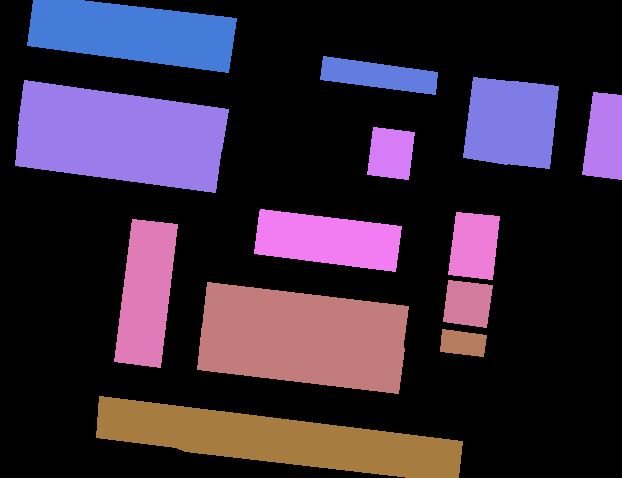parkingspot: (96, 396, 462, 477), (27, 0, 236, 72), (18, 80, 228, 151), (15, 120, 221, 192), (197, 323, 404, 393), (202, 282, 408, 351), (114, 219, 177, 367), (254, 209, 401, 271), (463, 77, 518, 164), (505, 81, 558, 168), (320, 56, 437, 94), (582, 92, 622, 179), (448, 212, 499, 279), (367, 127, 414, 179), (443, 280, 492, 327), (440, 329, 486, 356)
